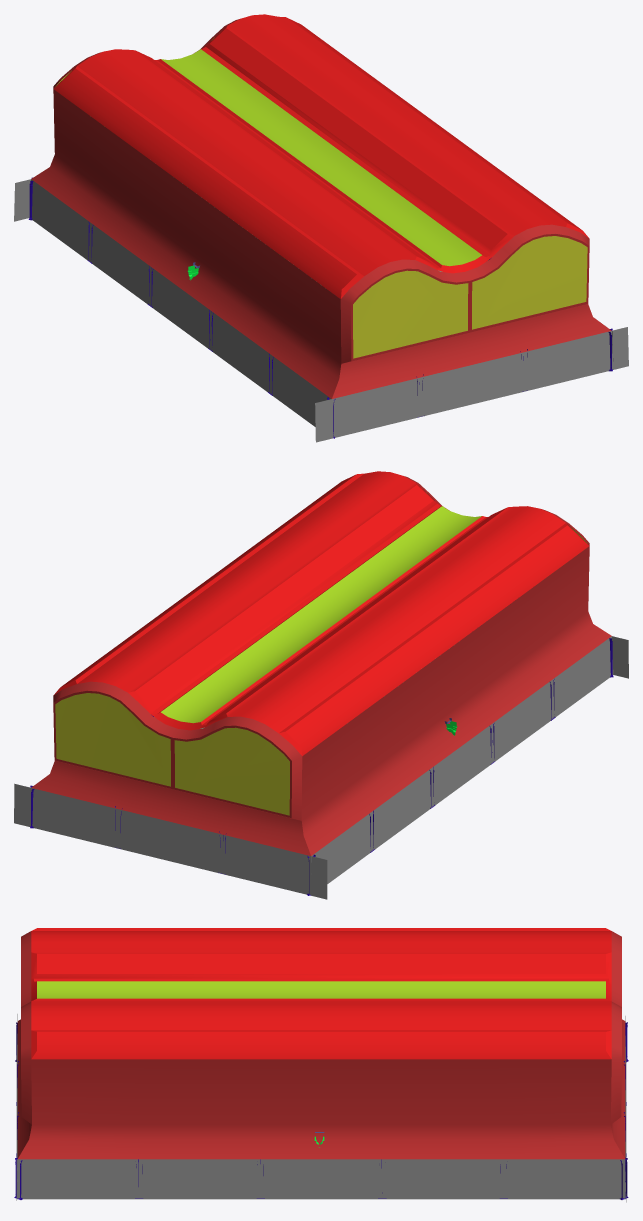
The model's file is VR Art Museum 1.FBX.
3 renders of one model, top to bottom at view 1: azimuth 30°, elevation 25°; view 2: azimuth 150°, elevation 25°; view 3: azimuth 270°, elevation 25°, orthographic.
Visible parts, largest first — view 1: Ceiling, Side Walls, Box001, Object047, Object046, Object045, Object038, Object037, Object035, Object039, Object036, Object048; view 2: Ceiling, Side Walls, Box001, Object049, Object048, Object050, Object037, Object035, Object038, Object036, Object039, Object047; view 3: Ceiling, Side Walls, Box001, Object043, Object040, Object042, Object041, Object044.
Part boxes in pixels (x1,y1,x2,y2): Ceiling: (54, 14, 588, 298); Side Walls: (31, 89, 341, 398); Box001: (53, 19, 611, 398); Object047: (315, 378, 420, 442); Object046: (419, 352, 524, 416); Object045: (523, 327, 628, 391); Object038: (90, 223, 150, 305); Object037: (150, 267, 211, 349); Object035: (210, 311, 271, 393); Object039: (31, 179, 90, 261); Object036: (270, 355, 330, 426); Object048: (14, 179, 31, 221); Ceiling: (53, 471, 588, 756); Side Walls: (301, 546, 611, 855); Box001: (31, 476, 589, 855); Object049: (118, 809, 222, 873); Object048: (223, 835, 327, 899); Object050: (14, 783, 118, 848); Object037: (431, 724, 492, 806); Object035: (491, 680, 552, 762); Object038: (371, 768, 432, 850); Object036: (552, 636, 613, 718); Object039: (311, 812, 372, 883); Object047: (612, 636, 628, 678); Ceiling: (31, 928, 611, 1059); Side Walls: (18, 1059, 624, 1159); Box001: (17, 931, 625, 1158); Object043: (138, 1159, 260, 1199); Object040: (503, 1159, 625, 1199); Object042: (260, 1159, 382, 1199); Object041: (382, 1159, 503, 1199); Object044: (16, 1159, 138, 1199).
Bounding box in the file's own units: 62.97 × 29.95 × 106.
